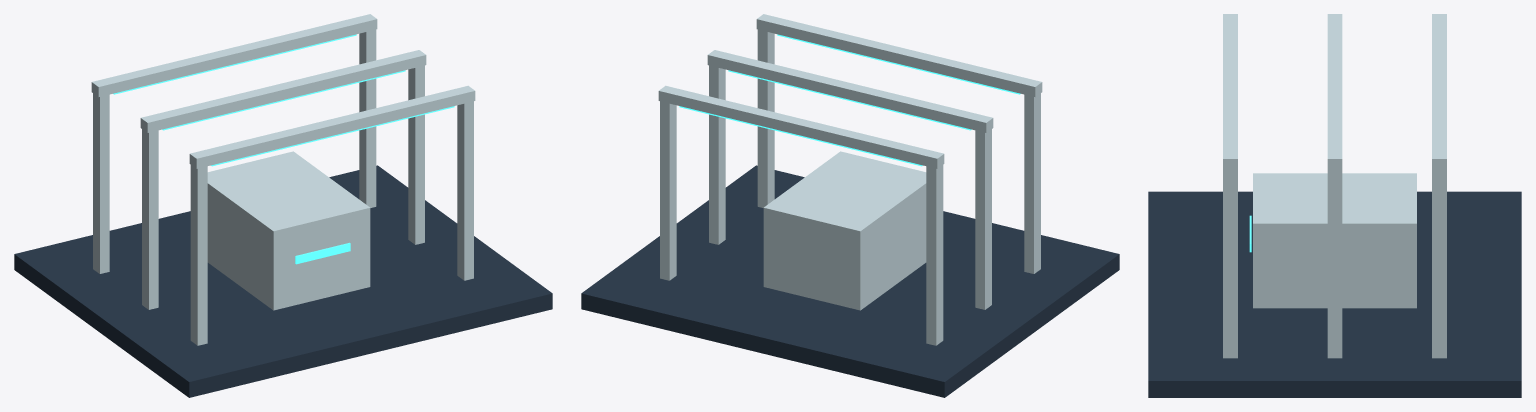
File: hangar.glb
3 views of the same model, side by side, from view 1: azimuth 30°, elevation 25°; view 2: azimuth 150°, elevation 25°; view 3: azimuth 270°, elevation 25° (orthographic). The views are drawn at different scales.
Visible parts, largest first — view 1: Landing_deck, Release_capsule, Hangar_beam.002, Hangar_beam.001, Hangar_beam, Hangar_pillar, Hangar_pillar.004, Hangar_pillar.002, Hangar_pillar.001, Hangar_pillar.003, Hangar_pillar.005, Release_seal (+1 smaller); view 2: Landing_deck, Release_capsule, Hangar_beam.001, Hangar_beam, Hangar_beam.002, Hangar_pillar.004, Hangar_pillar, Hangar_pillar.002, Hangar_pillar.005, Hangar_pillar.003, Hangar_pillar.001, Ceiling_light; view 3: Landing_deck, Release_capsule, Hangar_pillar.003, Hangar_pillar.001, Hangar_pillar.005, Hangar_beam.001, Hangar_beam, Hangar_beam.002.
Part boxes in pixels (x1,y1,x2,y2): Landing_deck: (14,165,552,397); Release_capsule: (207,151,370,310); Hangar_beam.002: (91,14,377,96); Hangar_beam.001: (140,50,426,132); Hangar_beam: (189,85,475,168); Hangar_pillar: (190,161,207,345); Hangar_pillar.004: (93,89,109,273); Hangar_pillar.002: (142,125,158,309); Hangar_pillar.001: (457,96,473,280); Hangar_pillar.003: (408,60,424,244); Hangar_pillar.005: (359,24,376,207); Release_seal: (295,242,350,264); Landing_deck: (581,165,1119,397); Release_capsule: (763,151,926,310); Hangar_beam.001: (707,50,993,132); Hangar_beam: (756,14,1042,96); Hangar_beam.002: (658,85,944,168); Hangar_pillar.004: (926,161,943,345); Hangar_pillar: (1024,89,1040,273); Hangar_pillar.002: (975,125,991,309); Hangar_pillar.005: (660,96,676,280); Hangar_pillar.003: (709,65,725,244); Hangar_pillar.001: (757,24,774,207); Ceiling_light: (777,34,1020,94); Landing_deck: (1148,191,1521,397); Release_capsule: (1253,173,1416,308); Hangar_pillar.003: (1327,170,1342,358); Hangar_pillar.001: (1223,170,1237,358); Hangar_pillar.005: (1432,170,1446,358); Hangar_beam.001: (1327,14,1342,169); Hangar_beam: (1223,14,1237,169); Hangar_beam.002: (1432,14,1446,169).
Bounding box in the file's own units: 6 × 3.2 × 5.
